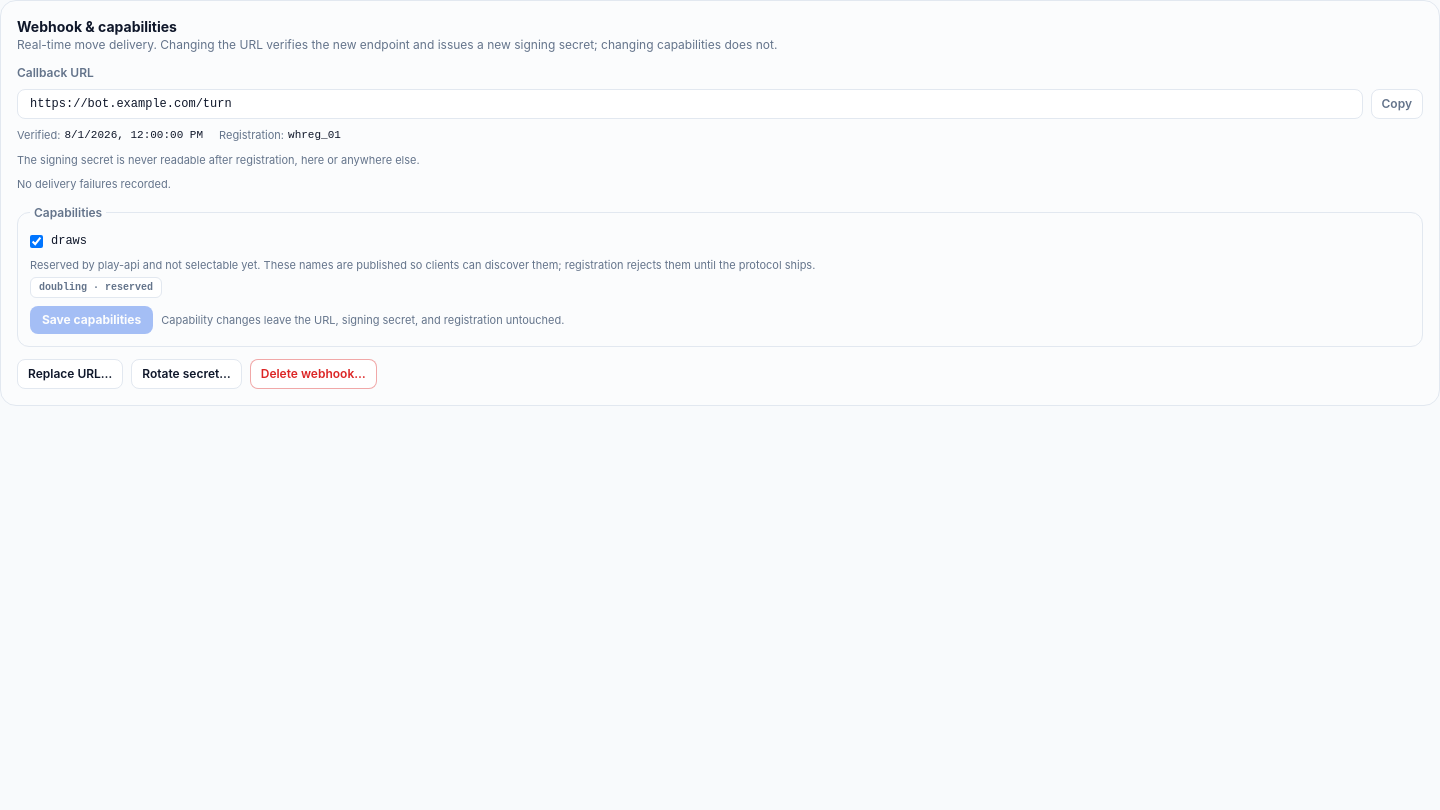
Test: BotWebhookPanel › URL edit-and-verify flow › disables activation again when the acknowledgement checkbox is cleared
This screenshot has width=1440, height=810.
Click the button "Replace URL…" at (70, 374), box [17,359,123,389]
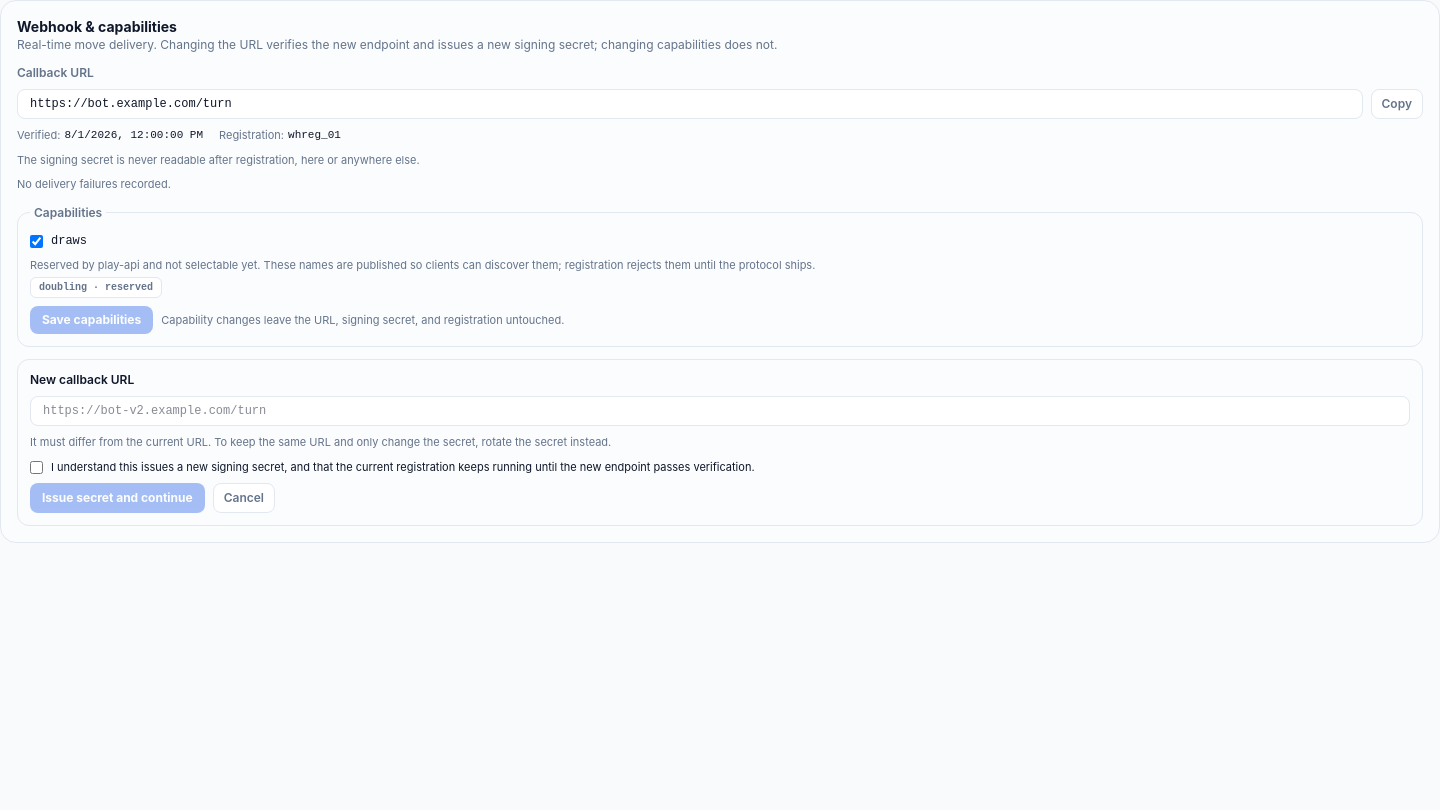
Type "https://v2.example.com/turn" into the field labelled "New callback URL" at (720, 411), box [30,396,1410,426]
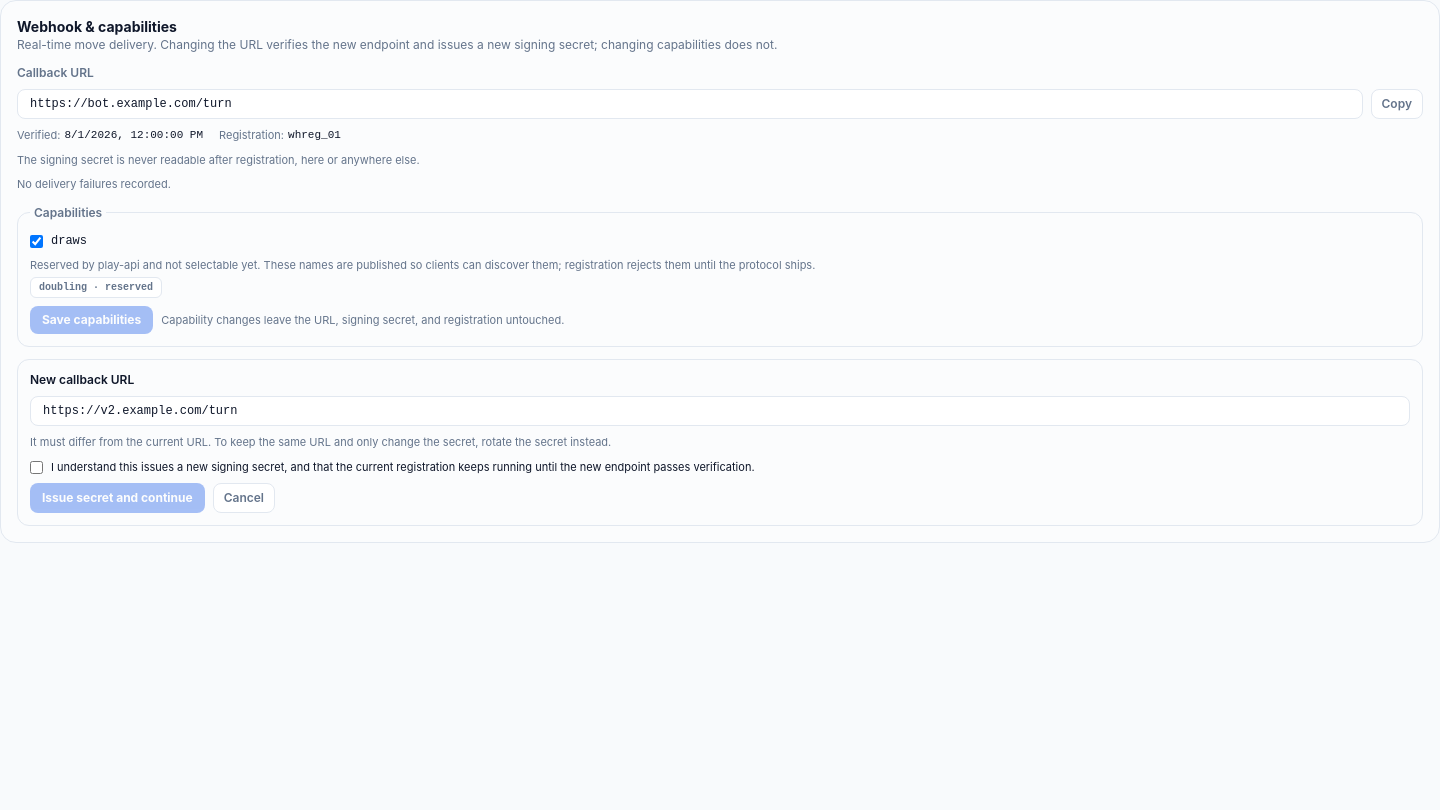
Click the checkbox labelled "new signing secret" at (36, 467), box [30,460,43,474]
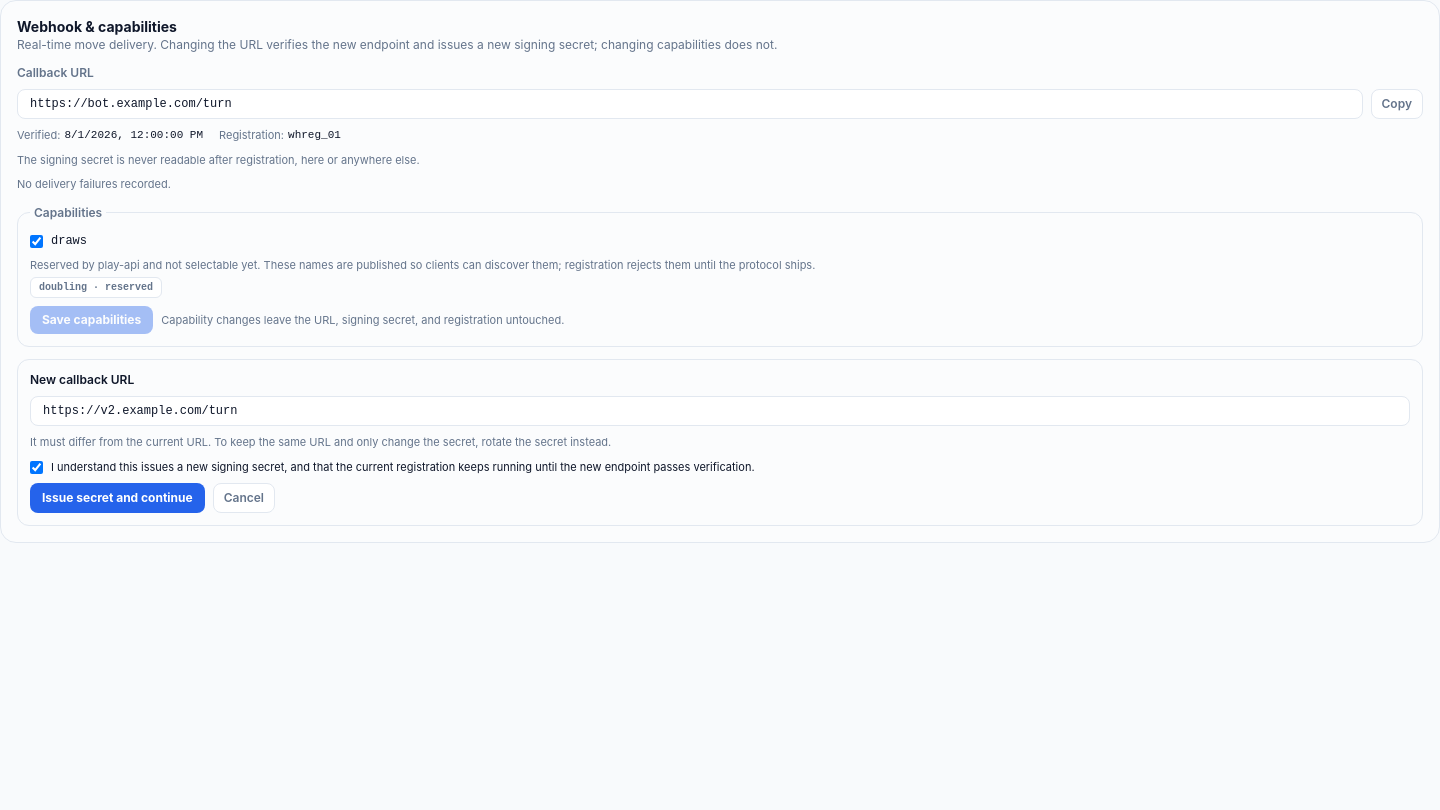
Click the button "Issue secret and continue" at (117, 498), box [30,483,205,513]
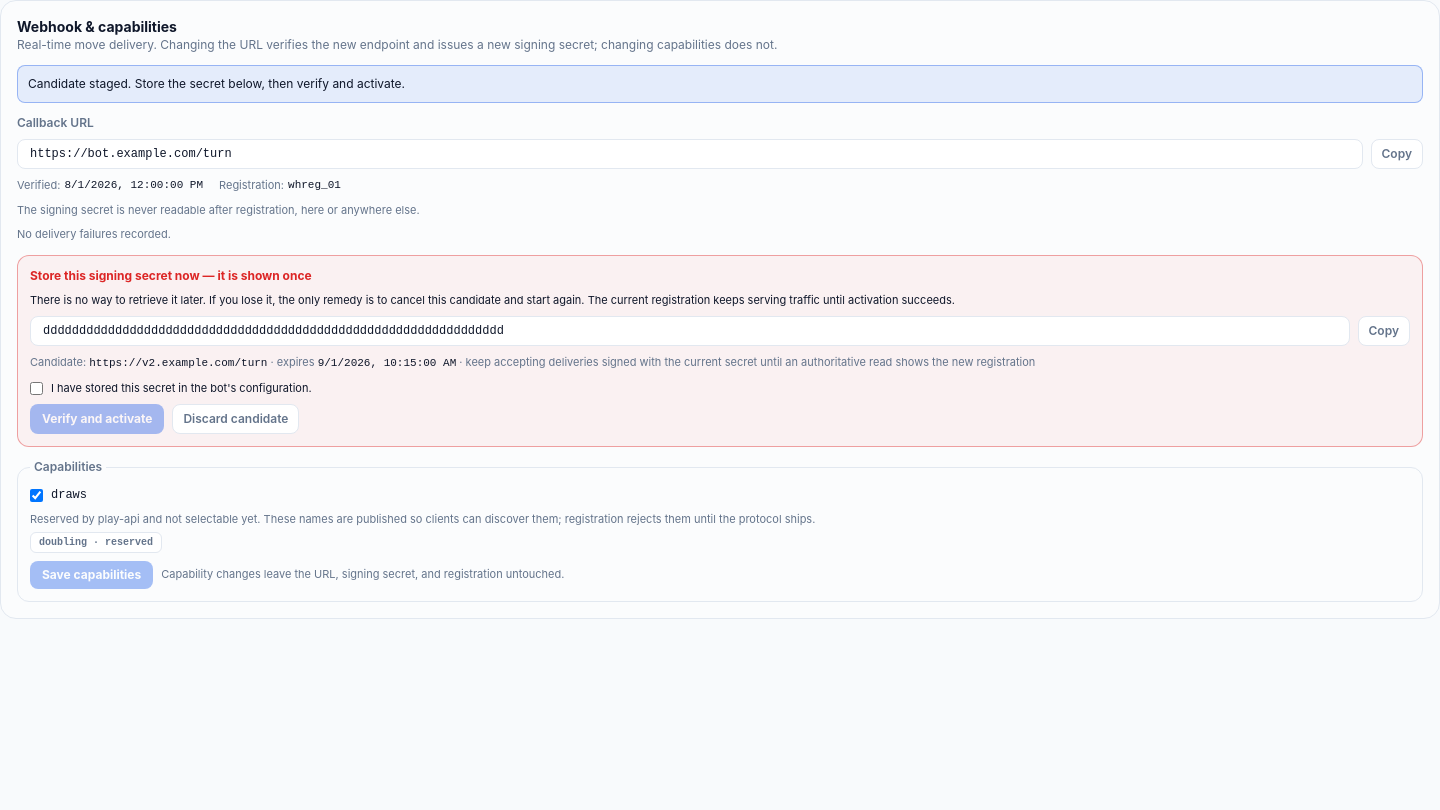
Click the checkbox labelled "I have stored this secret in the bot's configuration." at (36, 388), box [30,382,43,394]
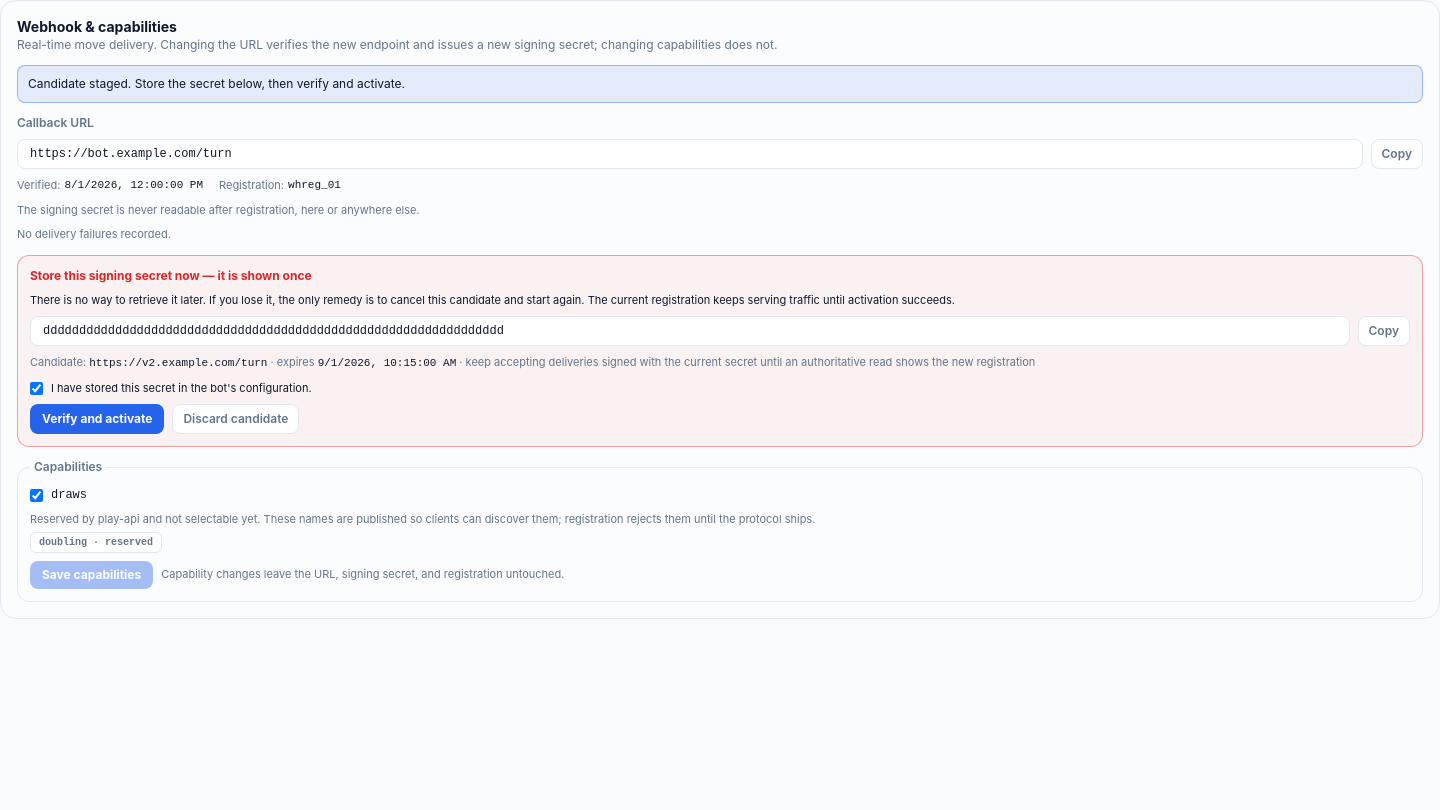
Check: the button "Verify and activate" is enabled, box [30,404,164,434]
Click the checkbox labelled "I have stored this secret in the bot's configuration." at (36, 388), box [30,382,43,394]
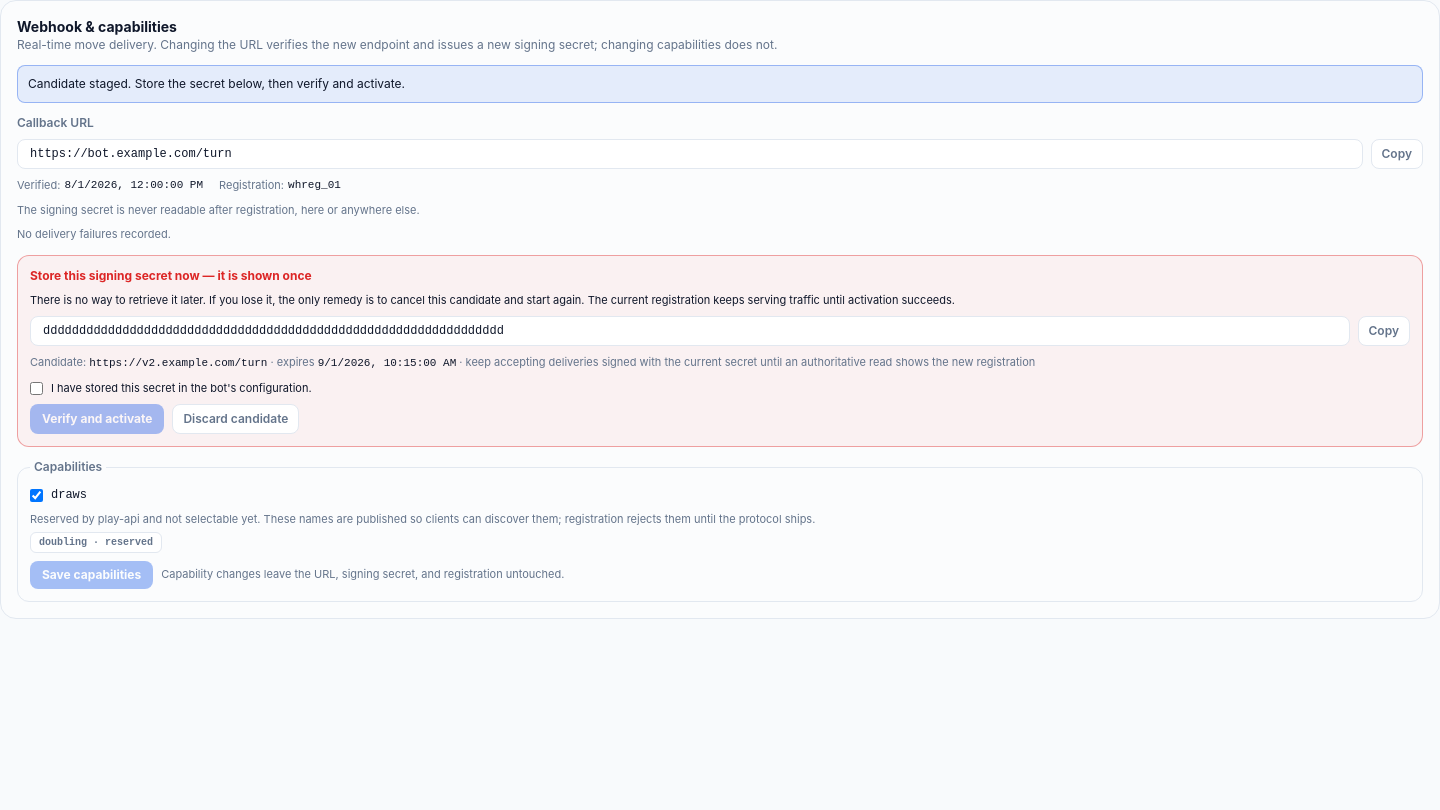
Check: the button "Verify and activate" is disabled, box [30,404,164,434]
